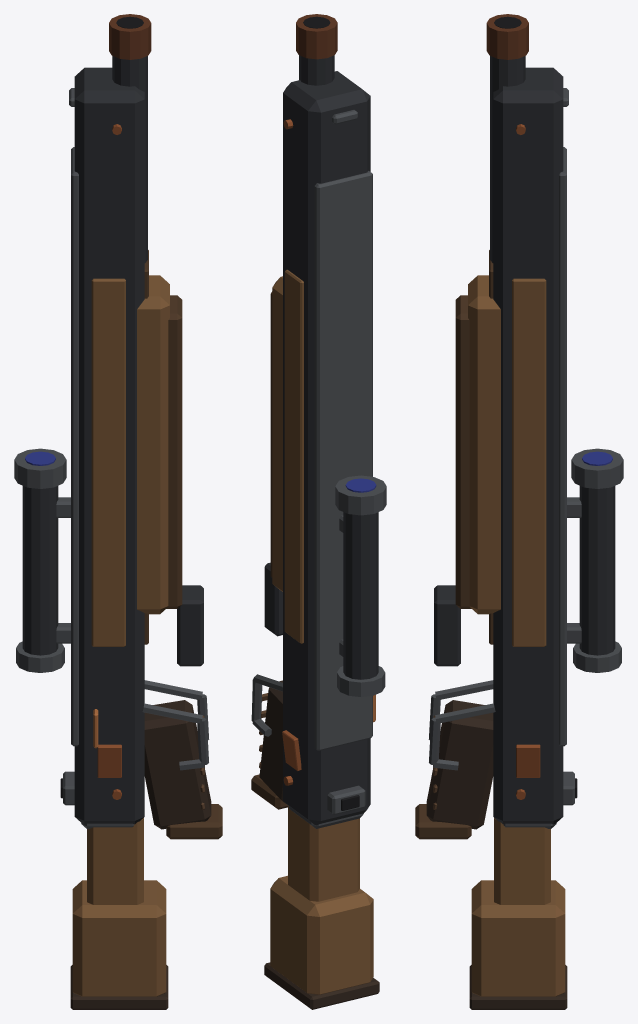
File: weapon_hunting_rifle.fbx
The picture shows the model from 3 angles, left to right: view 1: azimuth 90°, elevation 25°; view 2: azimuth 210°, elevation 25°; view 3: azimuth 270°, elevation 25°; orthographic projection.
Parts seen in each view (by area): view 1: weapon_hunting_rifle; view 2: weapon_hunting_rifle; view 3: weapon_hunting_rifle.
Boxes of the visible parts, x1,y1,x2,y2 form: weapon_hunting_rifle: (14,14,222,1009); weapon_hunting_rifle: (251,14,386,1009); weapon_hunting_rifle: (415,14,623,1009).
Size of the model in its own units: 0.1161 by 1.31 by 0.2555.
